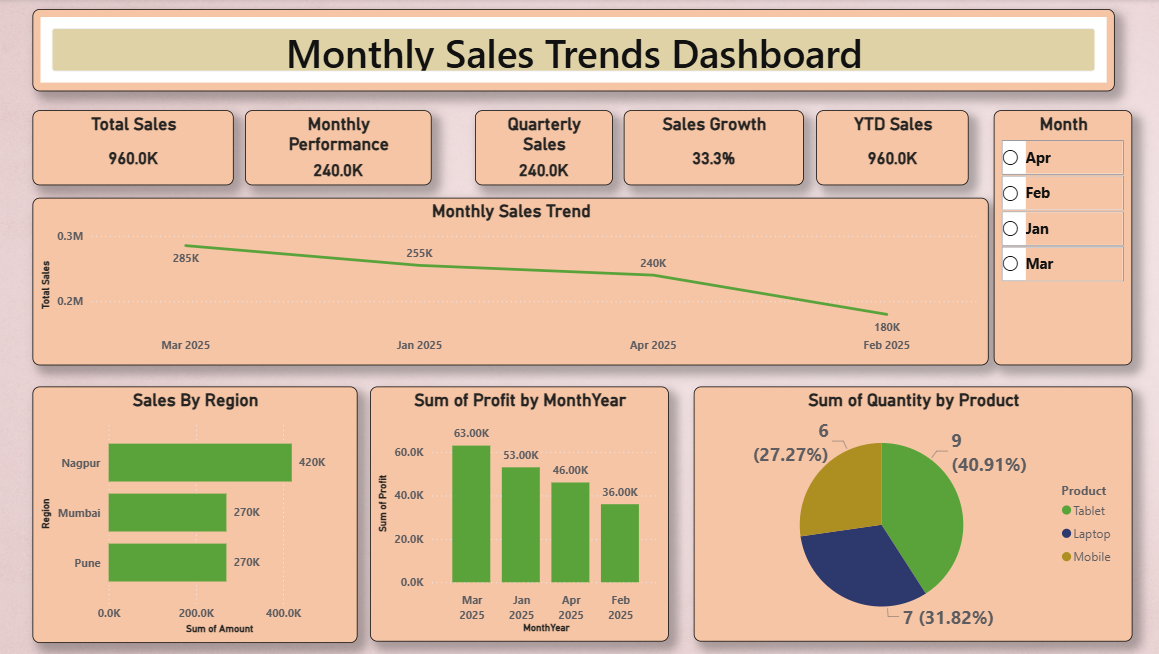

What the dashboard file says about the page in this screenshot:
{"tool":"powerbi","page":{"name":"Page 1","canvas":[1280,720],"ordinal":0},"visuals":[{"type":"card","title":"Total Sales","fields":{"Values":["DateTable.Total Sales"]},"box":[35.7,122.1,220.9,82.3],"z":0},{"type":"card","title":"Monthly Performance","fields":{"Values":["DateTable.Monthly Sales"]},"box":[269,122.1,204.5,82.3],"z":1000},{"type":"card","title":"Quarterly Sales ","fields":{"Values":["DateTable.Quarterly Sales"]},"box":[521.4,122.1,150.9,82.3],"z":2000},{"type":"card","title":"Sales Growth","fields":{"Values":["DateTable.Sales Growth %"]},"box":[684.7,122.1,197.6,82.3],"z":3000},{"type":"card","title":"YTD Sales","fields":{"Values":["DateTable.YTD Sales"]},"box":[896.1,122.1,167.4,82.3],"z":4000},{"type":"lineChart","title":"Monthly Sales Trend","fields":{"Category":["DateTable.MonthYear"],"Y":["DateTable.Total Sales"]},"box":[35.7,218.2,1049.7,183.9],"z":5000},{"type":"barChart","title":"Sales By Region","fields":{"Y":["Sum(Sheet1.Amount)"],"Category":["Sheet1.Region"]},"box":[35.7,425.4,356.8,281.3],"z":6000},{"type":"columnChart","fields":{"Category":["DateTable.MonthYear"],"Y":["Sum(Sheet1.Profit)"]},"box":[406.2,425.4,328,279.9],"z":7000},{"type":"pieChart","fields":{"Category":["Sheet1.Product"],"Y":["Sum(Sheet1.Quantity)"]},"box":[761.6,425.4,481.6,279.9],"z":8000},{"type":"listSlicer","fields":{"Values":["DateTable.Month"]},"box":[1090.9,122.1,152.3,279.9],"z":9000},{"type":"cardVisual","fields":{"Data":["DateTable.DashboardTitle"]},"box":[35.7,11,1193.8,100.2],"z":10000}]}

Visuals, with their boxes in screenshot pixels (x1, y1, x2, y2), scaled from the page's 1280x720 canvas onto the 1159x654 screenshot:
"Total Sales" card: rect(32, 111, 232, 186)
"Monthly Performance" card: rect(244, 111, 429, 186)
"Quarterly Sales " card: rect(472, 111, 609, 186)
"Sales Growth" card: rect(620, 111, 799, 186)
"YTD Sales" card: rect(811, 111, 963, 186)
"Monthly Sales Trend" lineChart: rect(32, 198, 983, 365)
"Sales By Region" barChart: rect(32, 386, 355, 642)
columnChart - DateTable.MonthYear x Sum(Sheet1.Profit): rect(368, 386, 665, 641)
pieChart - Sheet1.Product x Sum(Sheet1.Quantity): rect(690, 386, 1126, 641)
listSlicer - DateTable.Month: rect(988, 111, 1126, 365)
cardVisual - DateTable.DashboardTitle: rect(32, 10, 1113, 101)
